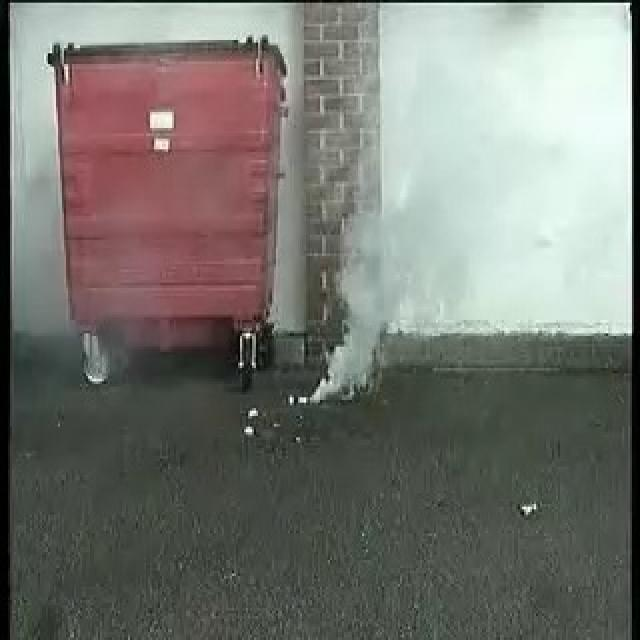smoke: (312, 220, 414, 415)
